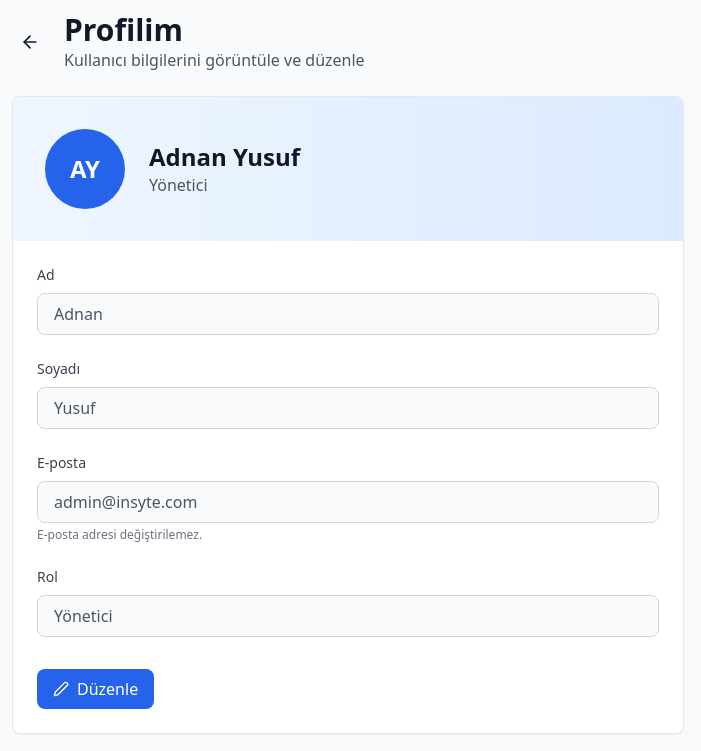
ProfilePage › iptal butonu düzenlemeyi iptal eder
Click the button "Düzenle".
click(96, 689)  # box [37,669,154,709]
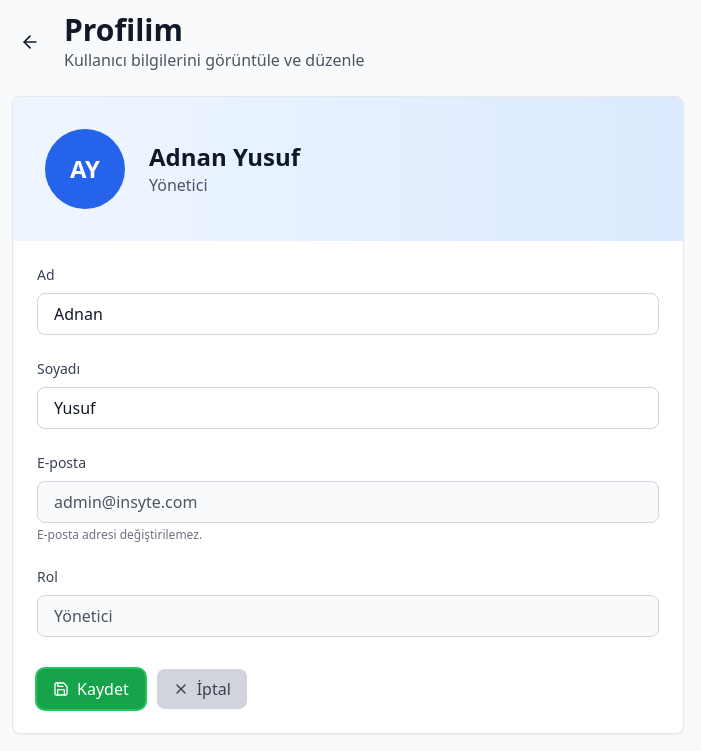
Expected: the field showing "Adnan" is shown, [37,293,659,335]
Click the button "İptal".
click(202, 689)  # box [157,669,247,709]
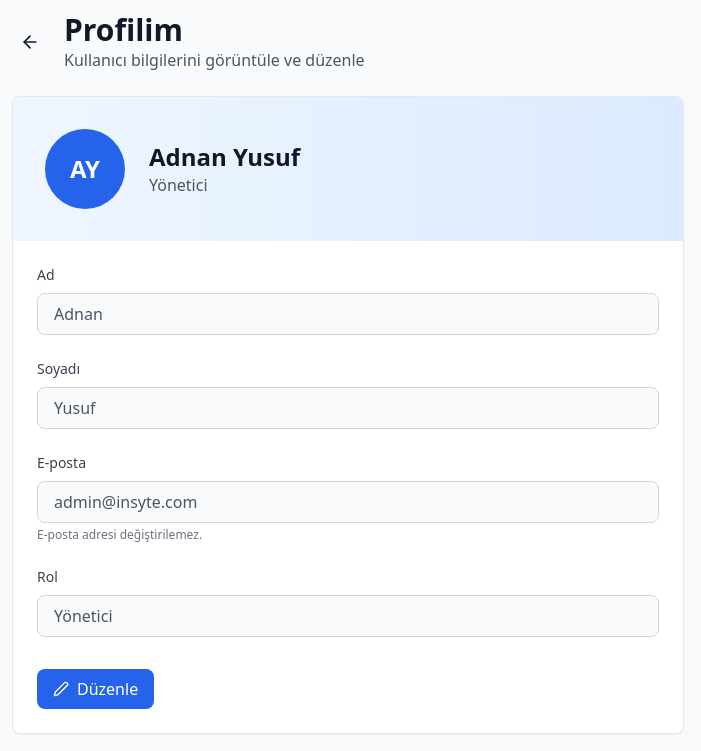
Expected: the field labelled "E-posta" is disabled, [37,481,659,523]
Expected: the field labelled "Ad" is disabled, [37,293,659,335]
Expected: the field labelled "Soyadı" is disabled, [37,387,659,429]
